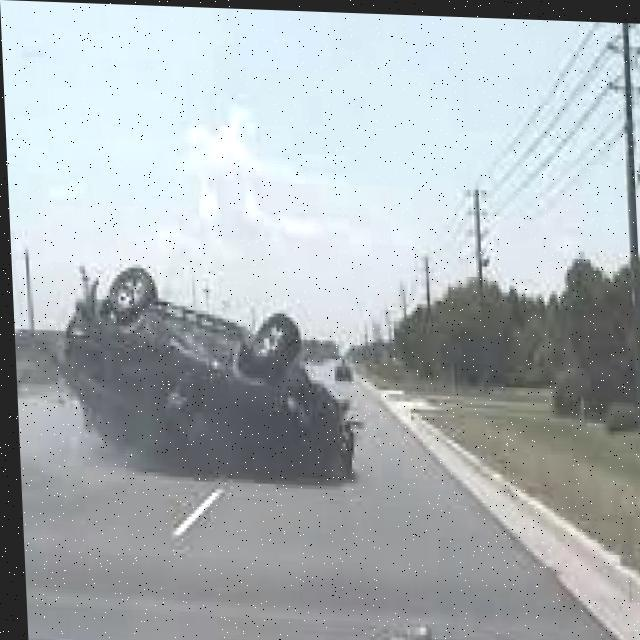single accident: (13, 197, 435, 567)
